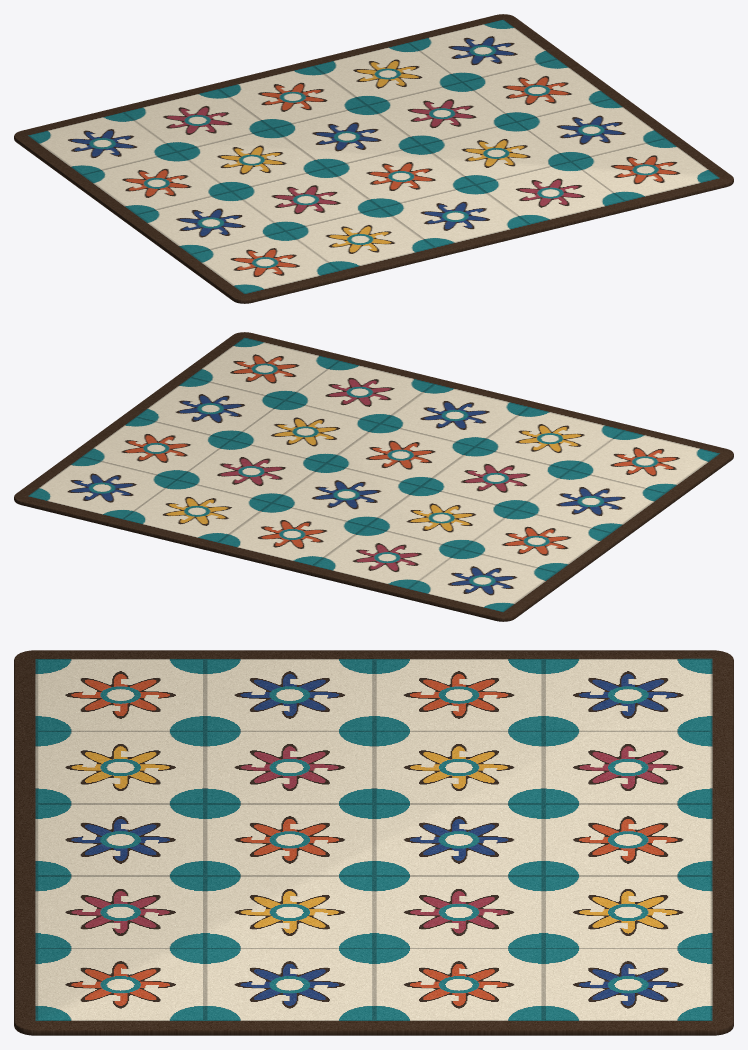
File: dish_mat.glb
The picture shows the model from 3 angles, top to bottom: view 1: azimuth 30°, elevation 25°; view 2: azimuth 150°, elevation 25°; view 3: azimuth 270°, elevation 25°; orthographic projection. The views are drawn at different scales.
Visible parts, largest first — view 1: HomeCloud Dish Drying Mat; view 2: HomeCloud Dish Drying Mat; view 3: HomeCloud Dish Drying Mat.
Boxes of the visible parts, left/top/right/bottom form: HomeCloud Dish Drying Mat: left=14, top=14, right=733, bottom=303; HomeCloud Dish Drying Mat: left=14, top=332, right=733, bottom=621; HomeCloud Dish Drying Mat: left=14, top=650, right=733, bottom=1035.
Size of the model in its own units: 0.5 by 0.004 by 0.4.
Materials: 1 (1 with a texture image).
